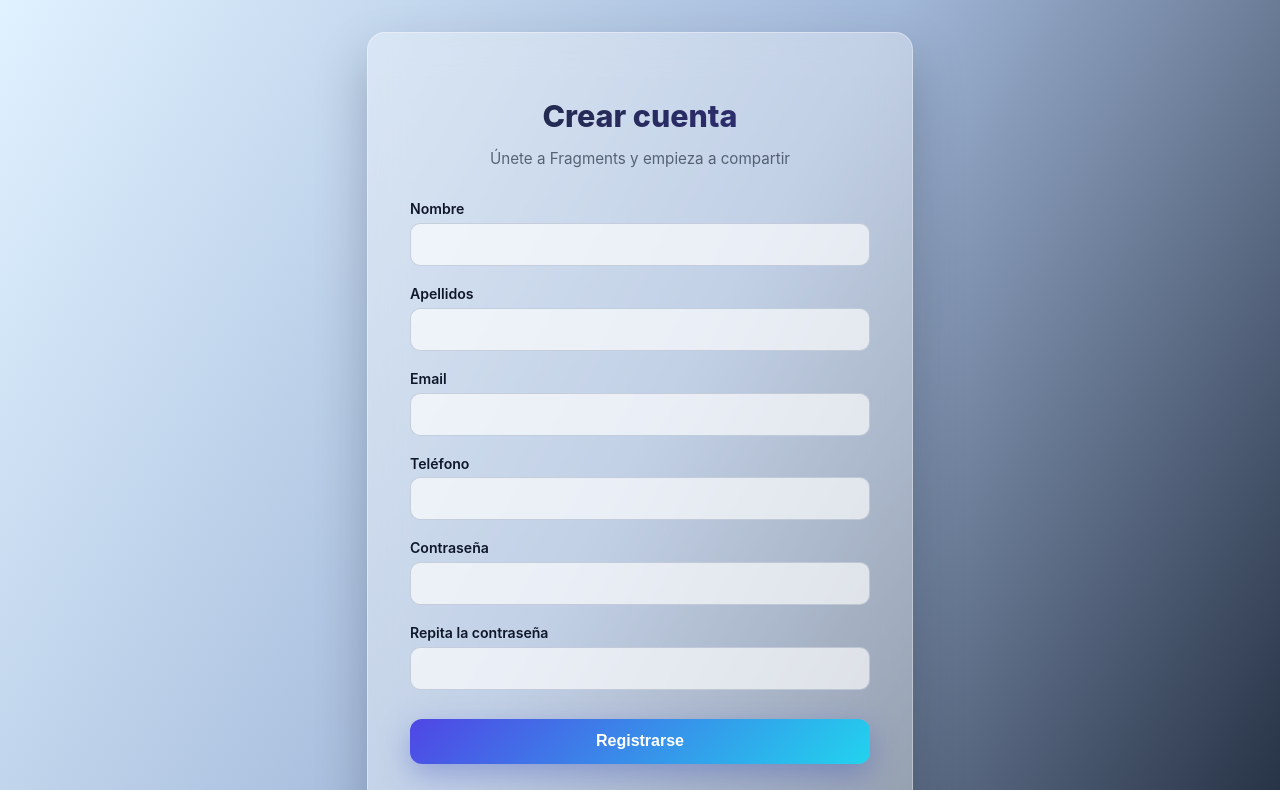
RegisterView › si el backend devuelve error con message lo muestra
Type "Pepe" into the field labelled "Nombre" at point(640, 244), box [410,223,870,266]
Type "Pérez" into the field labelled "Apellidos" at point(640, 329), box [410,308,870,351]
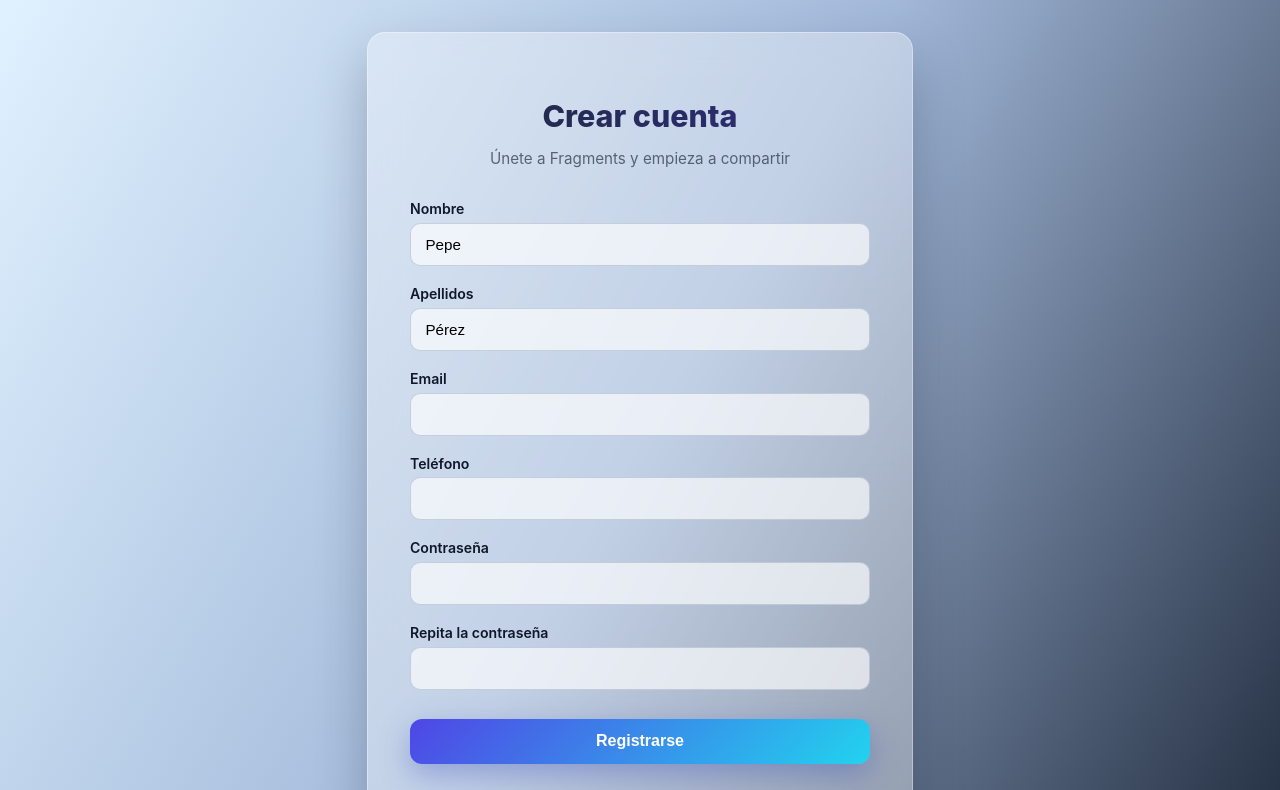
Type "test@test.com" into the field labelled "Email" at point(640, 414), box [410,392,870,436]
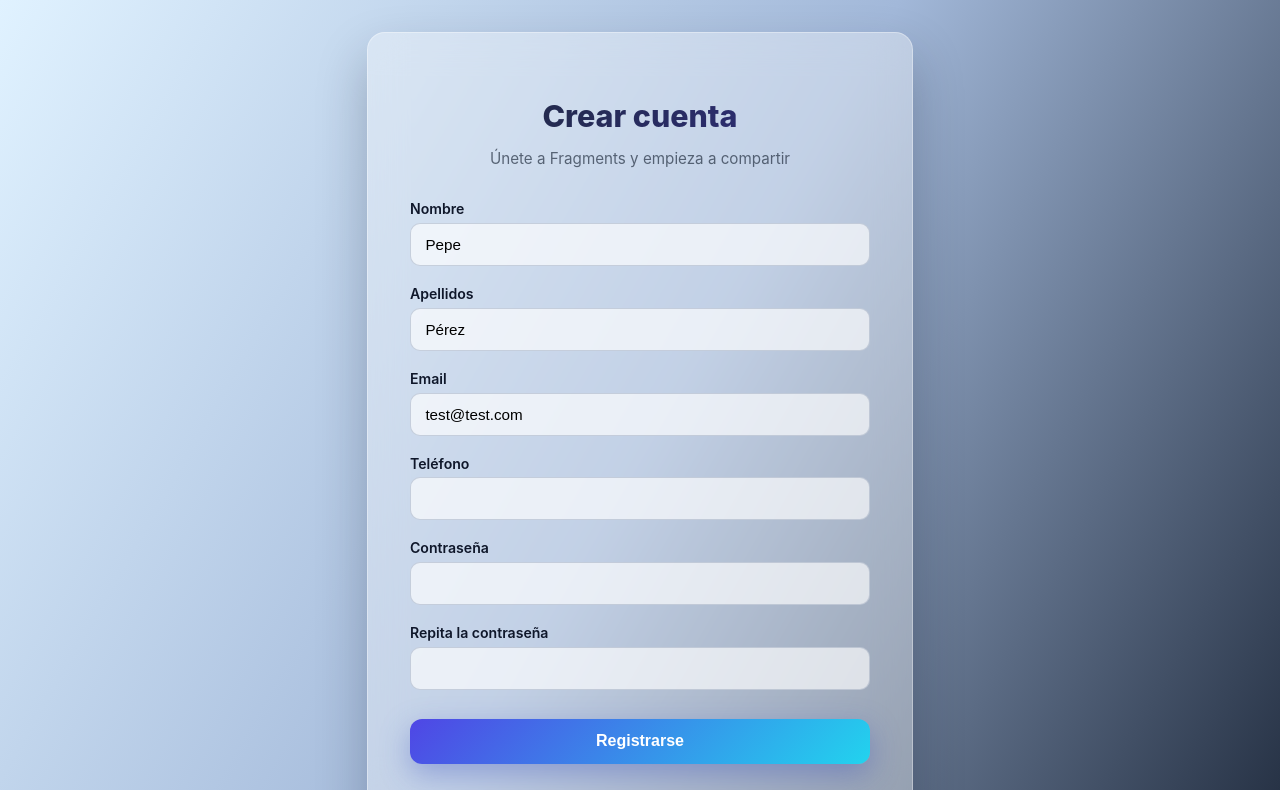
Type "666555444" into the field labelled "Teléfono" at point(640, 499), box [410,477,870,520]
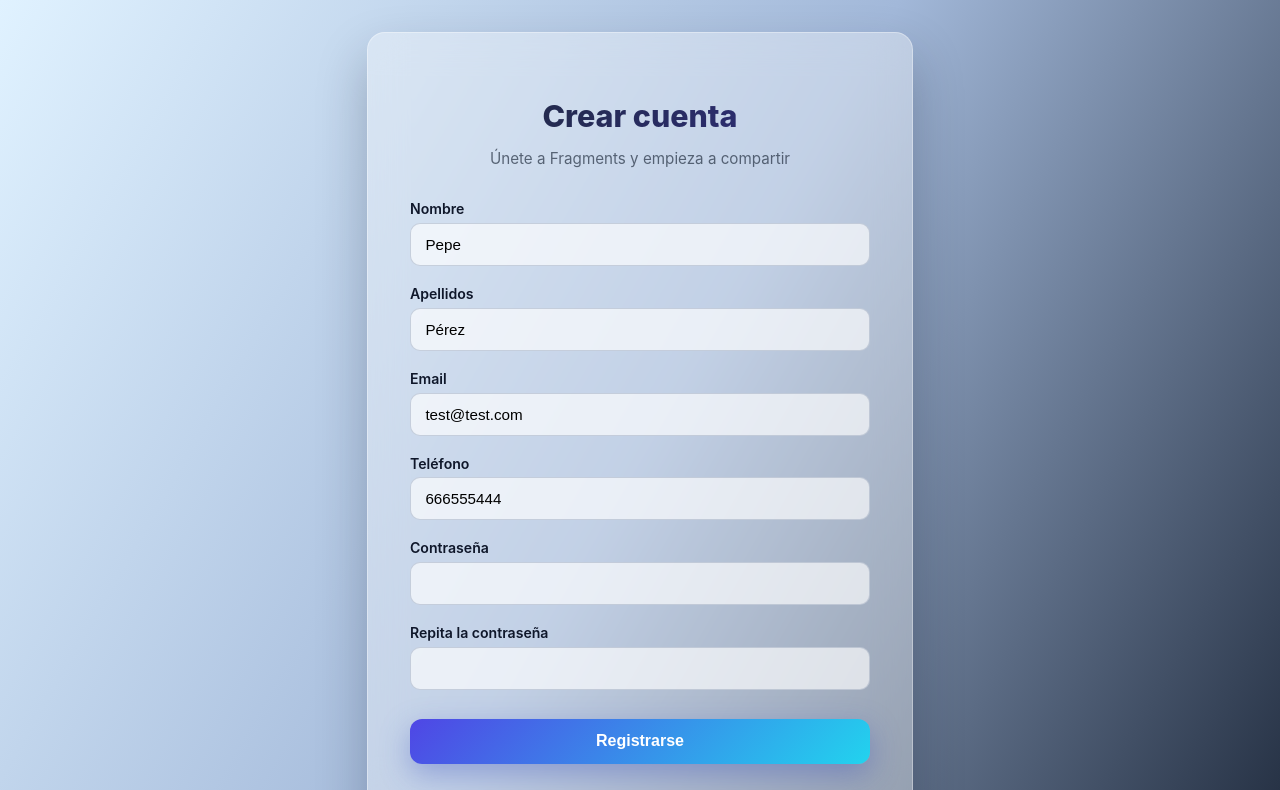
Type "123456" into the password field labelled "Contraseña" at point(640, 584), box [410,562,870,605]
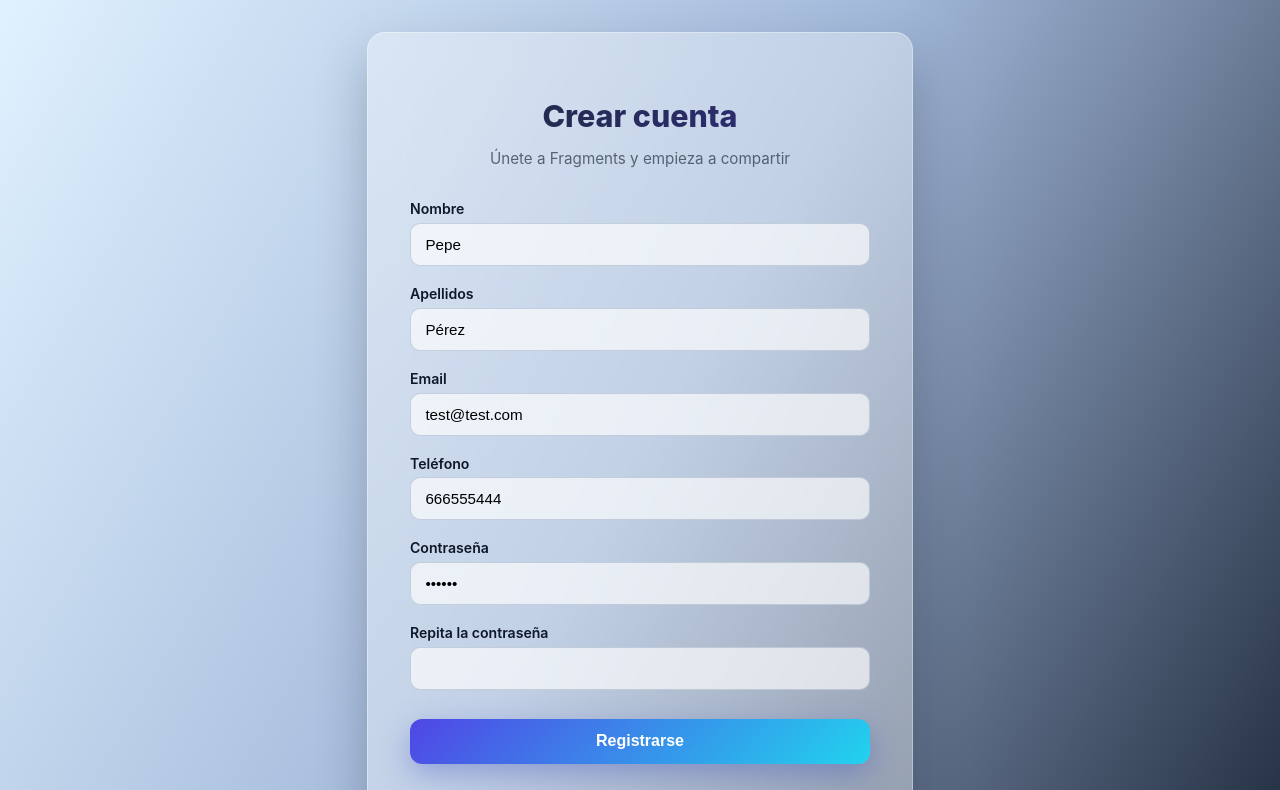
Type "123456" into the password field labelled "Repita la contraseña" at point(640, 668), box [410,647,870,690]
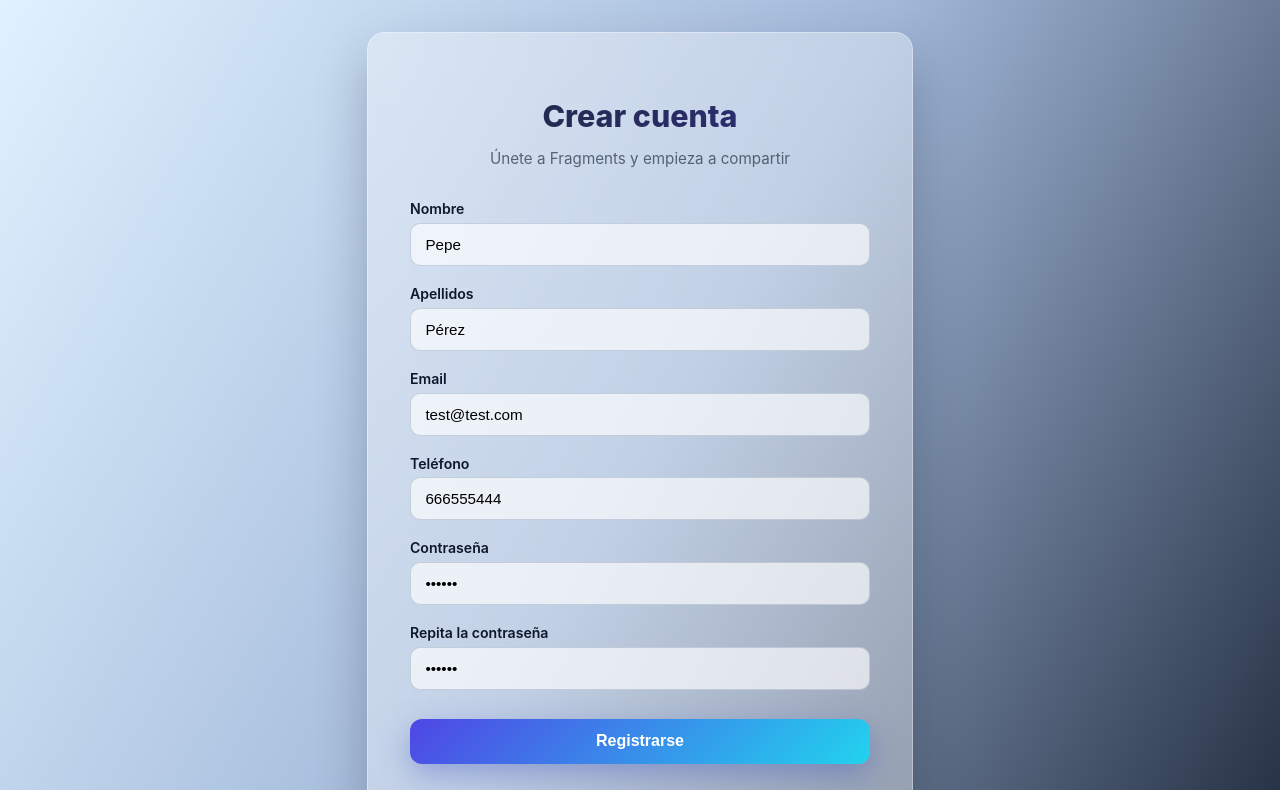
Submit the form, box [410,200,870,764]
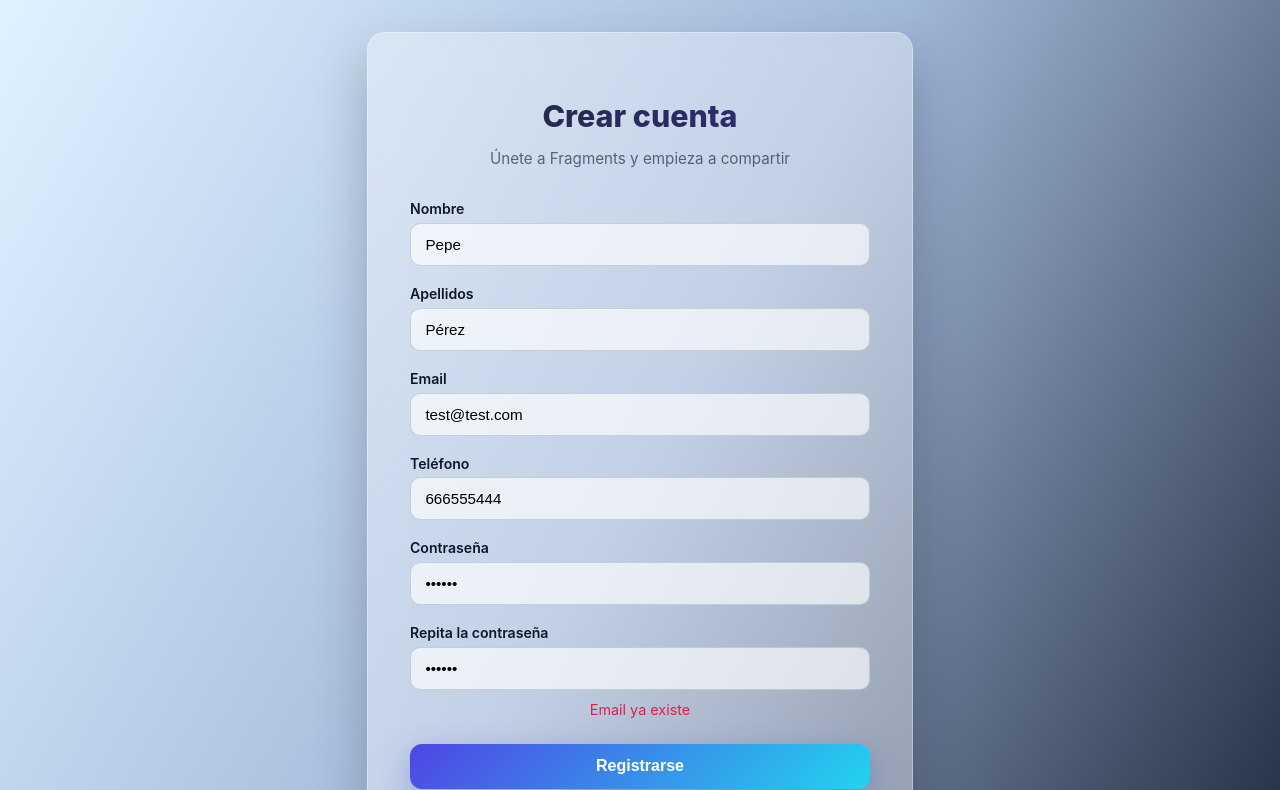
Expected: the text "Email ya existe" is shown, [590,701,690,718]
